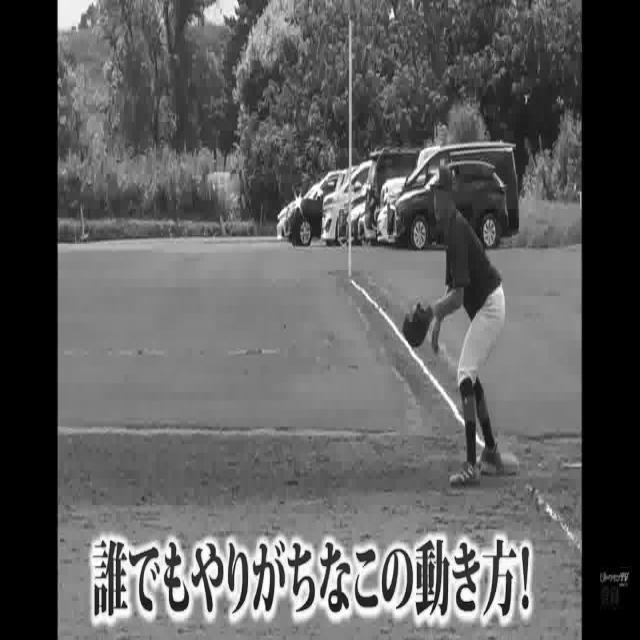base: (456, 454, 519, 473)
baseball_glove: (402, 302, 434, 347)
shoe: (446, 460, 479, 490), (471, 441, 498, 468)
